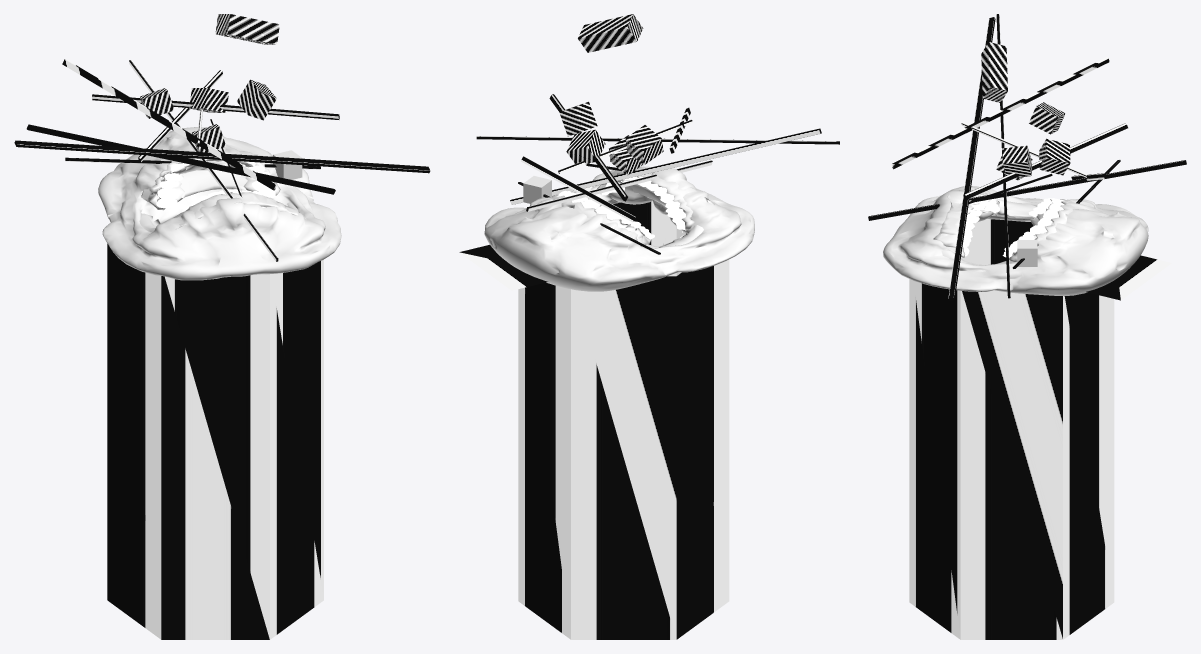
File: collision-world-03.glb
The picture shows the model from 3 angles, left to right: view 1: azimuth 30°, elevation 25°; view 2: azimuth 150°, elevation 25°; view 3: azimuth 270°, elevation 25°; orthographic projection. The views are drawn at different scales.
Visible parts, largest first — view 1: Cylinder.012, posast.003, Cube.179, Cube.136, Cube.135, Cube.159, Cube.182, Cube.144, Cube.164, Cube.181, Cube.165; view 2: Cylinder.012, posast.003, Cube.159, Cube.135, Cube.165, Cube.179, Cube.164, Cube.145, Cube.181, Cube.182, Cube.103, Cube.166; view 3: Cylinder.012, posast.003, Cube.179, Cube.136, Cube.159, Cube.181, Cube.164, Cube.144, Cube.182, Cube.165, Cube.135, Cube.103.
Part boxes in pixels (<box>): Cylinder.012: <box>107,244,323,639</box>; posast.003: <box>98,127,341,280</box>; Cube.179: <box>14,140,430,173</box>; Cube.136: <box>62,59,276,190</box>; Cube.135: <box>26,124,335,194</box>; Cube.159: <box>215,14,279,44</box>; Cube.182: <box>237,79,276,120</box>; Cube.144: <box>92,94,339,119</box>; Cube.164: <box>189,88,228,112</box>; Cube.181: <box>129,60,278,261</box>; Cube.165: <box>140,88,174,118</box>; Cylinder.012: <box>459,201,729,639</box>; posast.003: <box>484,166,754,291</box>; Cube.159: <box>578,14,643,52</box>; Cube.135: <box>510,128,821,204</box>; Cube.165: <box>625,125,663,165</box>; Cube.179: <box>476,136,839,144</box>; Cube.164: <box>566,129,605,163</box>; Cube.145: <box>521,156,635,222</box>; Cube.181: <box>526,160,712,211</box>; Cube.182: <box>559,101,597,136</box>; Cube.103: <box>523,176,551,203</box>; Cube.166: <box>609,135,642,175</box>; Cylinder.012: <box>909,219,1171,639</box>; posast.003: <box>883,186,1148,295</box>; Cube.179: <box>948,17,995,300</box>; Cube.136: <box>891,57,1109,169</box>; Cube.159: <box>981,42,1007,102</box>; Cube.181: <box>868,160,1186,220</box>; Cube.164: <box>1039,138,1070,175</box>; Cube.144: <box>963,123,1127,199</box>; Cube.182: <box>1002,145,1031,177</box>; Cube.165: <box>1028,102,1065,134</box>; Cube.135: <box>996,14,1010,298</box>; Cube.103: <box>1017,240,1037,266</box>.
Size of the model in its own units: 42.28 by 61.14 by 31.44.
4 materials, 1 textured.
